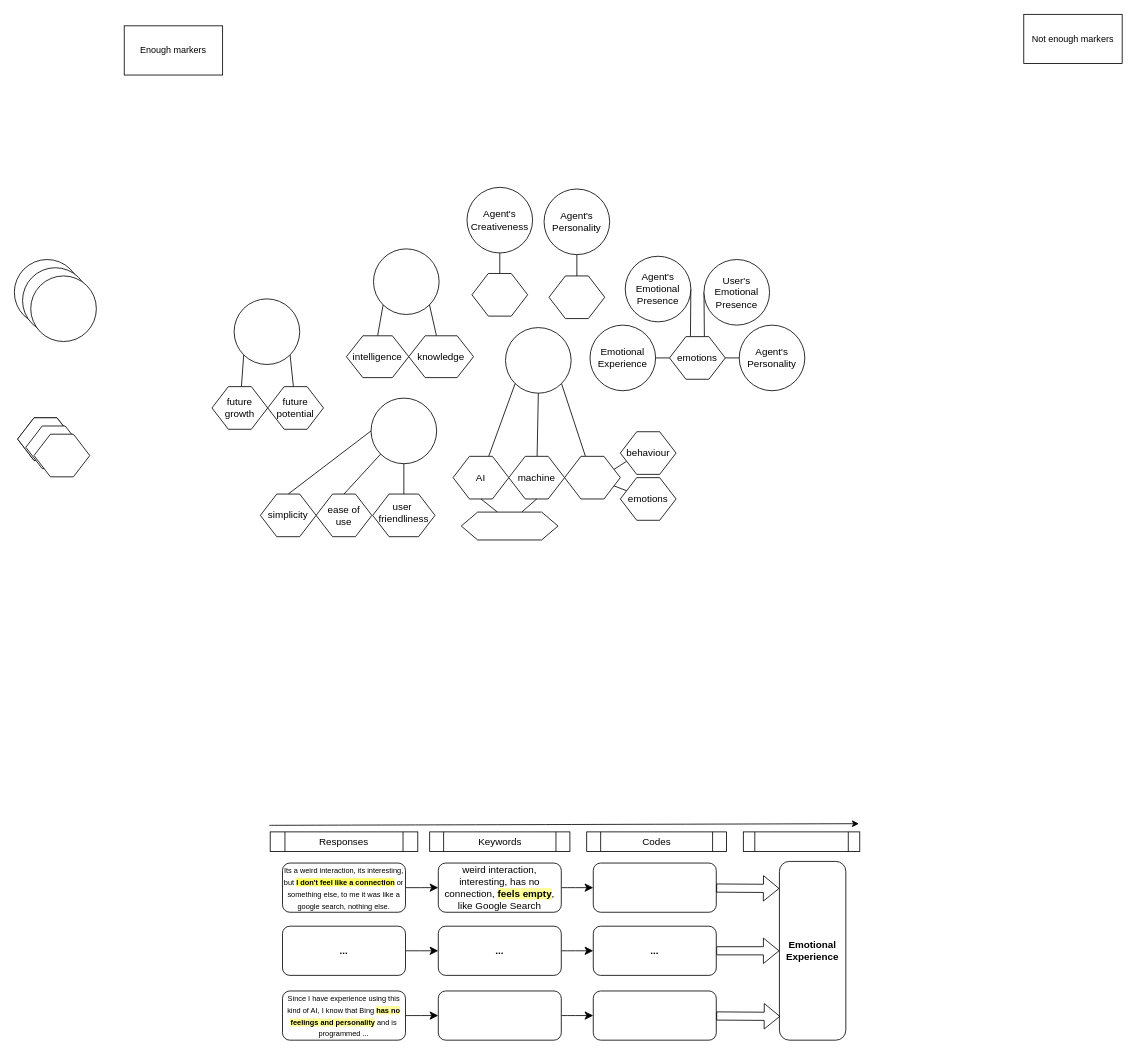
Some shapes in this 1137 by 1055 pixel diagram are drawn without their labels. The shapes that lost their labels are listed below. From the top down, each one's box as (x1, y1, x2, y2) in pixels, then its label:
(373, 248, 439, 314): Agent's Cognition
(471, 273, 528, 316): creativity
(548, 275, 605, 319): character
(233, 298, 300, 364): Potential
(505, 327, 571, 393): Human-like Behaviour
(370, 397, 437, 464): Agent's Usability
(564, 456, 620, 499): human
(460, 511, 558, 540): Perception as a tool
(743, 831, 860, 852): Themes
(592, 862, 716, 912): machine-like, characterless , emptiness , weirdness, interesting experience
(437, 990, 561, 1040): will use in the future, has no emotion , finds it useful, tool
(592, 990, 716, 1040): user’s emotion, future use, usefulness, emotionless
